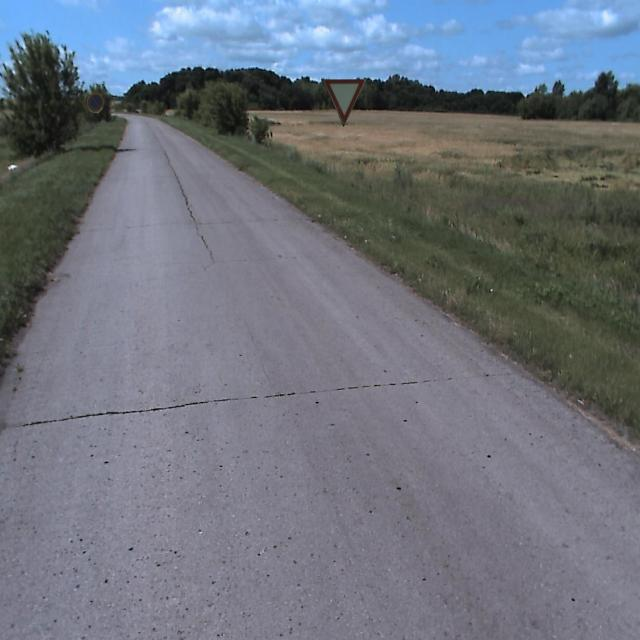road: (0, 113, 639, 639)
